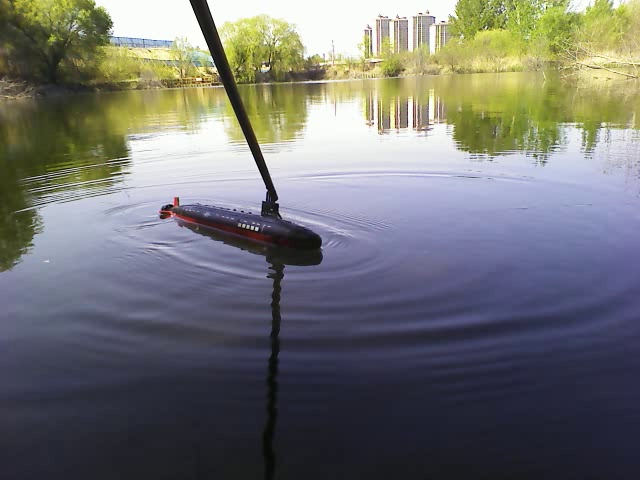submarine: (157, 187, 325, 253)
